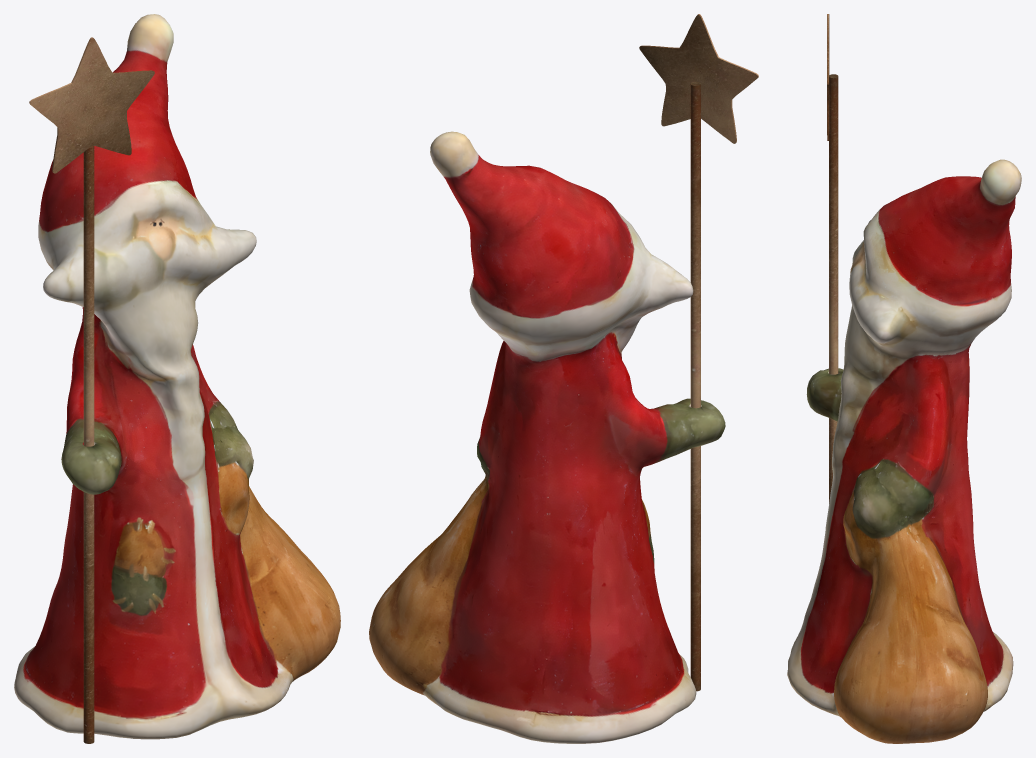
File: santa_claus.glb
The picture shows the model from 3 angles, left to right: view 1: azimuth 30°, elevation 25°; view 2: azimuth 150°, elevation 25°; view 3: azimuth 270°, elevation 25°; orthographic projection. The views are drawn at different scales.
Parts seen in each view (by area): view 1: SantaClaus, Star; view 2: SantaClaus, Star; view 3: SantaClaus, Star.
Boxes of the visible parts, x1,y1,x2,y2 form: SantaClaus: (14,14,340,739); Star: (29,37,154,743); SantaClaus: (369,131,725,743); Star: (639,14,758,691); SantaClaus: (787,159,1021,743); Star: (827,14,838,503).
Bounding box in the file's own units: 0.146 × 0.2866 × 0.0984.
2 materials, 2 textured.
